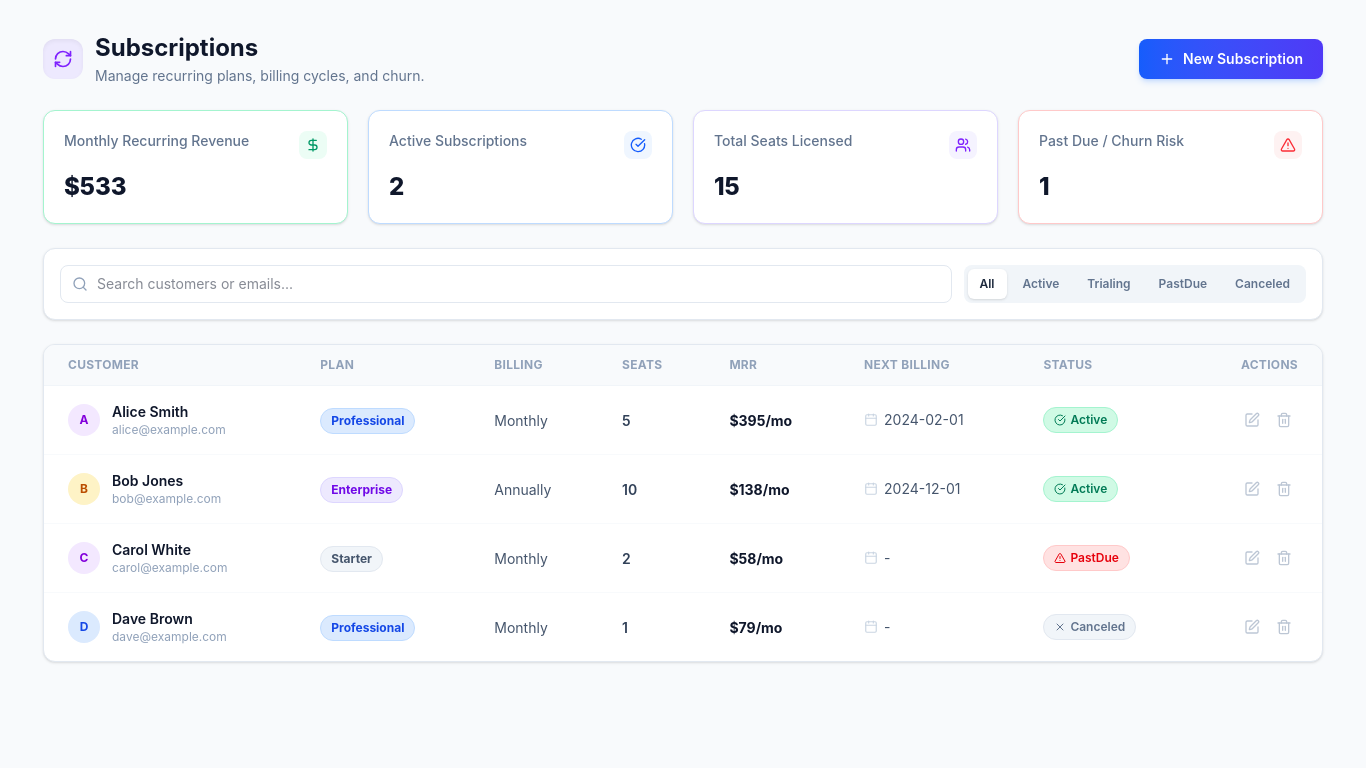
Test: Subscriptions Component › filters subscriptions by Canceled status
Expected: the text "Alice Smith" is shown, [112, 403, 188, 420]
What coordinates should you click on to do the following:
click the button "Canceled"
I would click on:
 (1263, 284)
Its box is [1223, 269, 1302, 299].
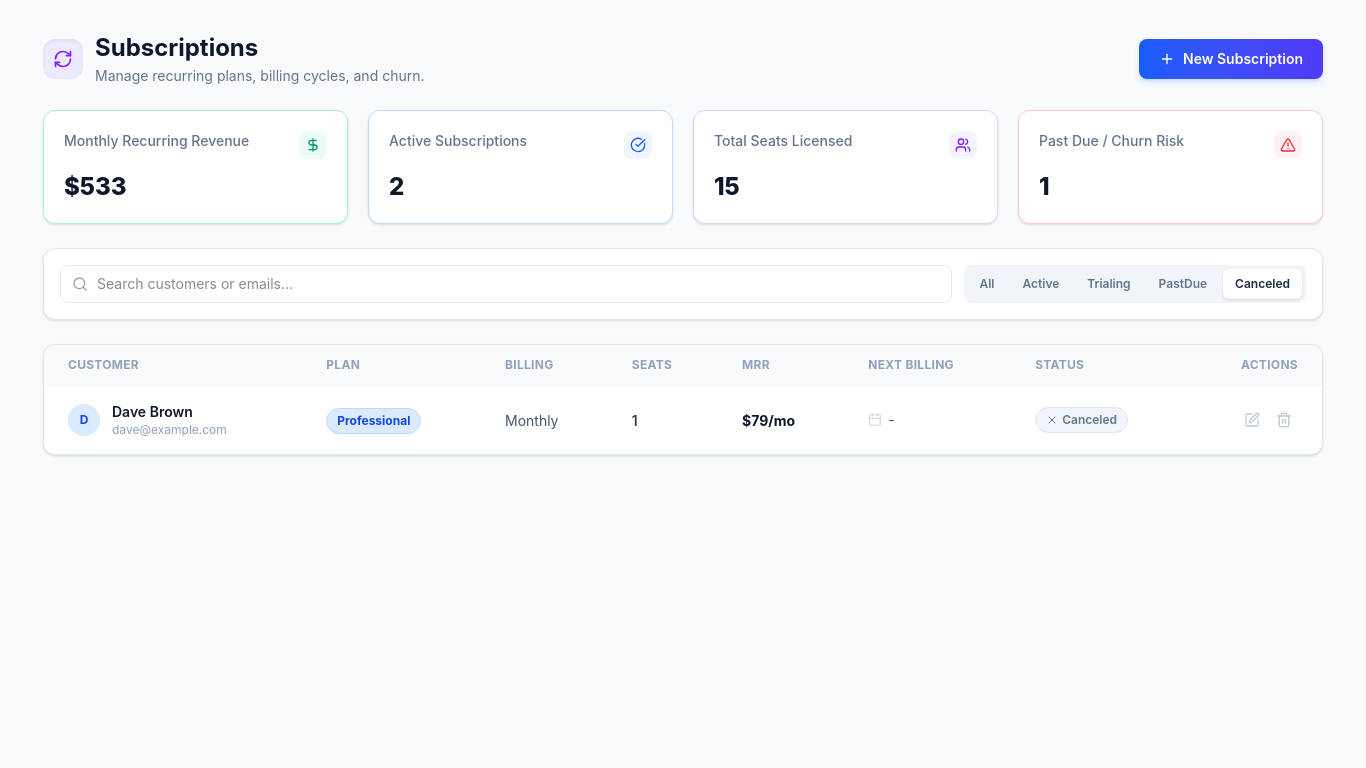
Expected: the text "Dave Brown" is shown, [112, 403, 193, 420]
Expected: the text "Alice Smith" is gone
